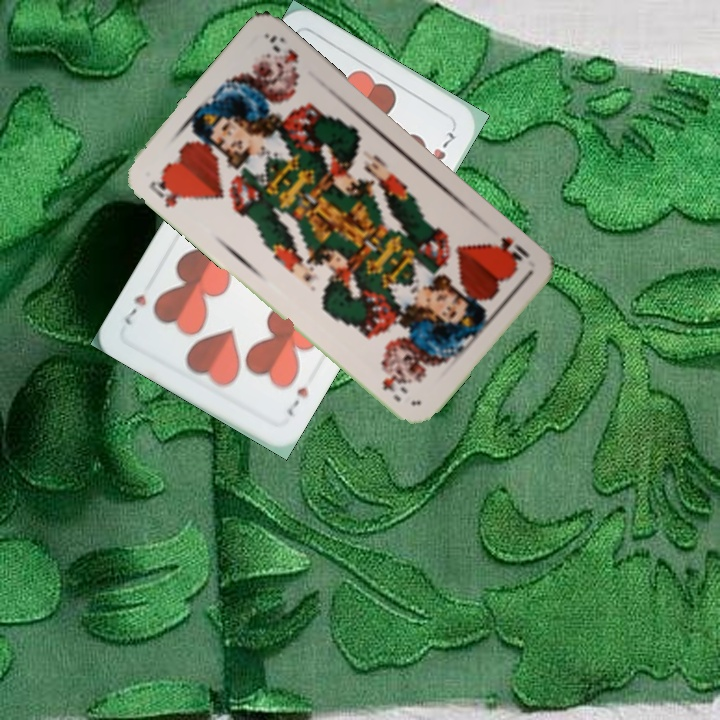H7: (283, 382, 311, 419)
HO: (145, 172, 189, 210), (489, 233, 532, 267)
